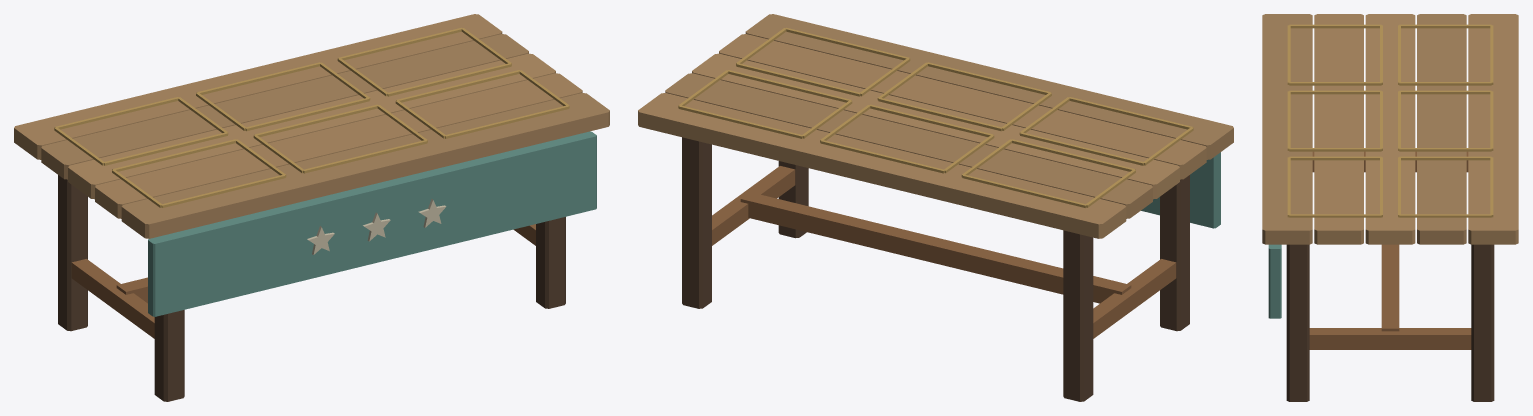
The model's file is market_booth_player.glb.
The picture shows the model from 3 angles, left to right: view 1: azimuth 30°, elevation 25°; view 2: azimuth 150°, elevation 25°; view 3: azimuth 270°, elevation 25°; orthographic projection. The views are drawn at different scales.
Visible parts, largest first — view 1: geometry; view 2: geometry; view 3: geometry.
Part boxes in pixels (x1,y1,x2,y2): geometry: (14, 14, 609, 401); geometry: (638, 14, 1233, 401); geometry: (1262, 14, 1518, 401).
Size of the model in its own units: 2 by 0.81 by 1.
